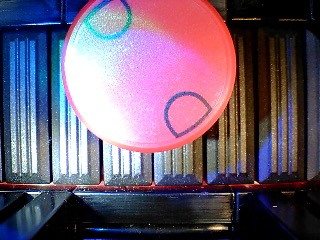MIPO2: (61, 1, 236, 153)
